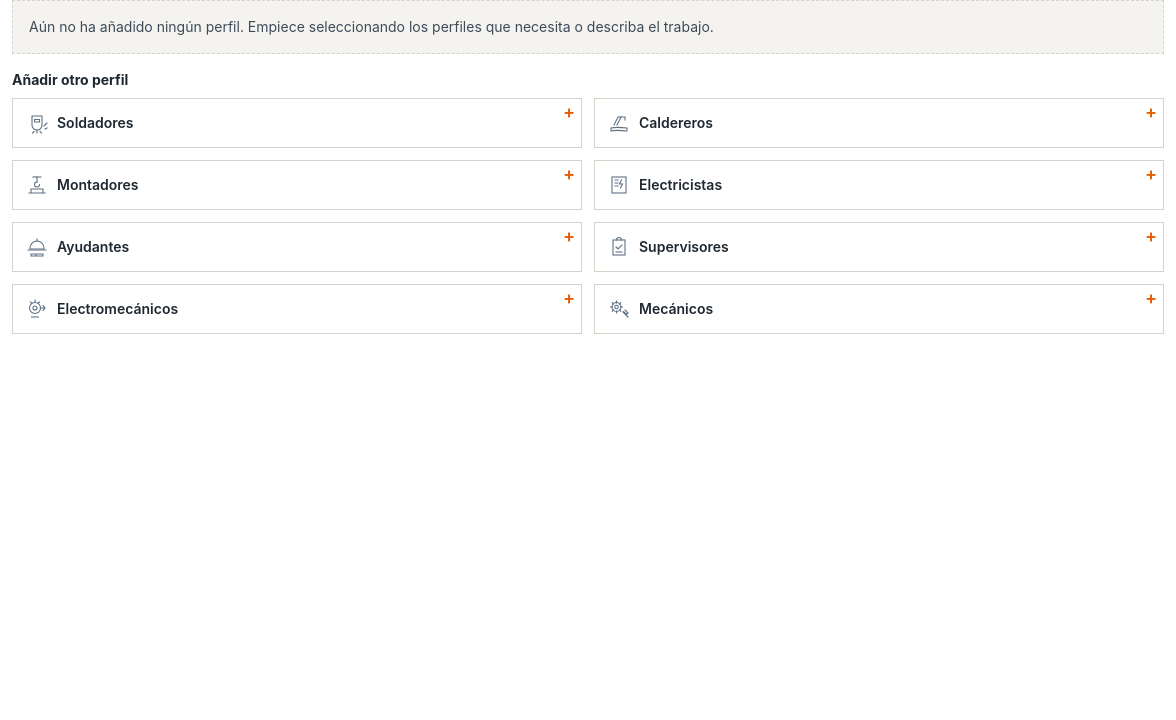
Test case: TeamComposer › adding several profiles sums quantities in the totals
This screenshot has width=1176, height=720.
What coordinates should you click on to do the following:
click the button "Soldadores +"
I would click on:
 (95, 123)
Its box is [12,98,582,148].
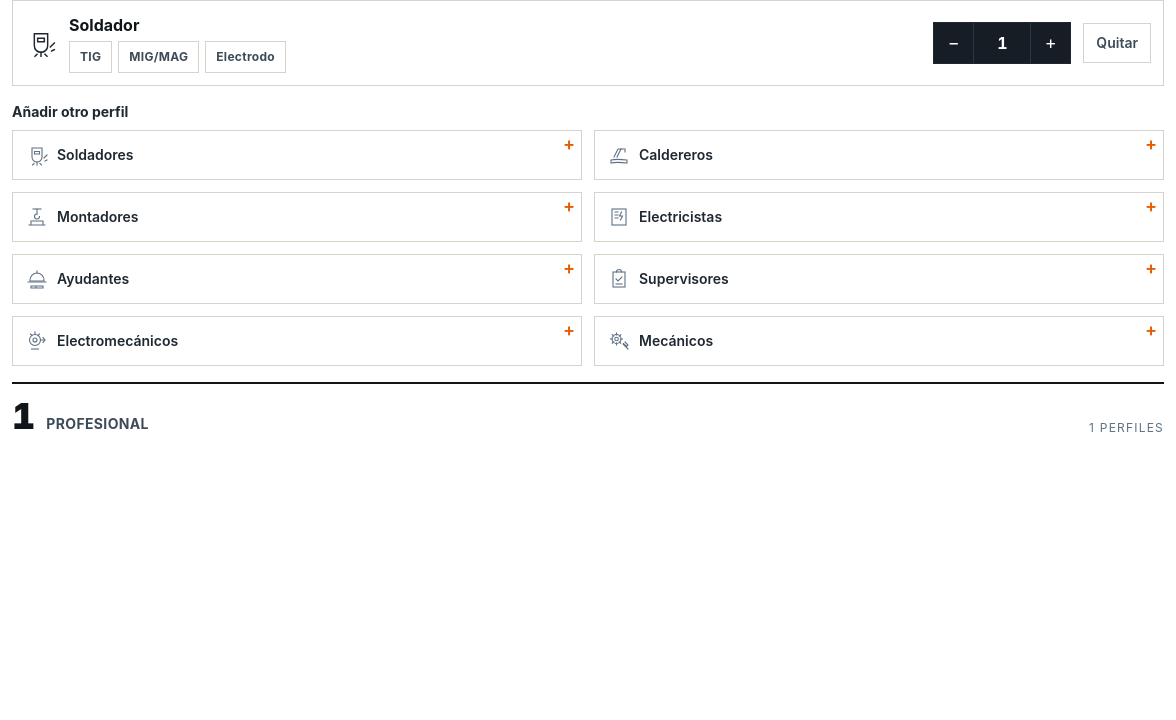
What coordinates should you click on to do the following:
click the button "Montadores +"
I would click on:
 (98, 217)
Its box is [12,192,582,242].
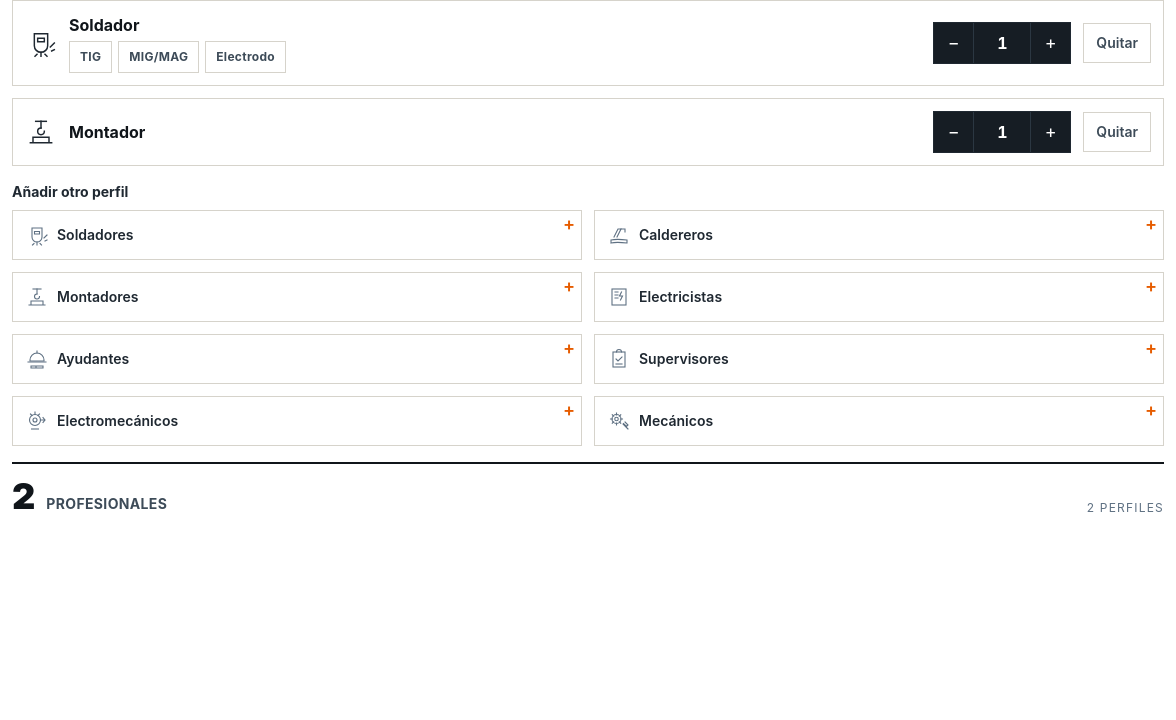
What coordinates should you click on to do the following:
click the button "Montadores +"
I would click on:
 (98, 297)
Its box is [12,272,582,322].
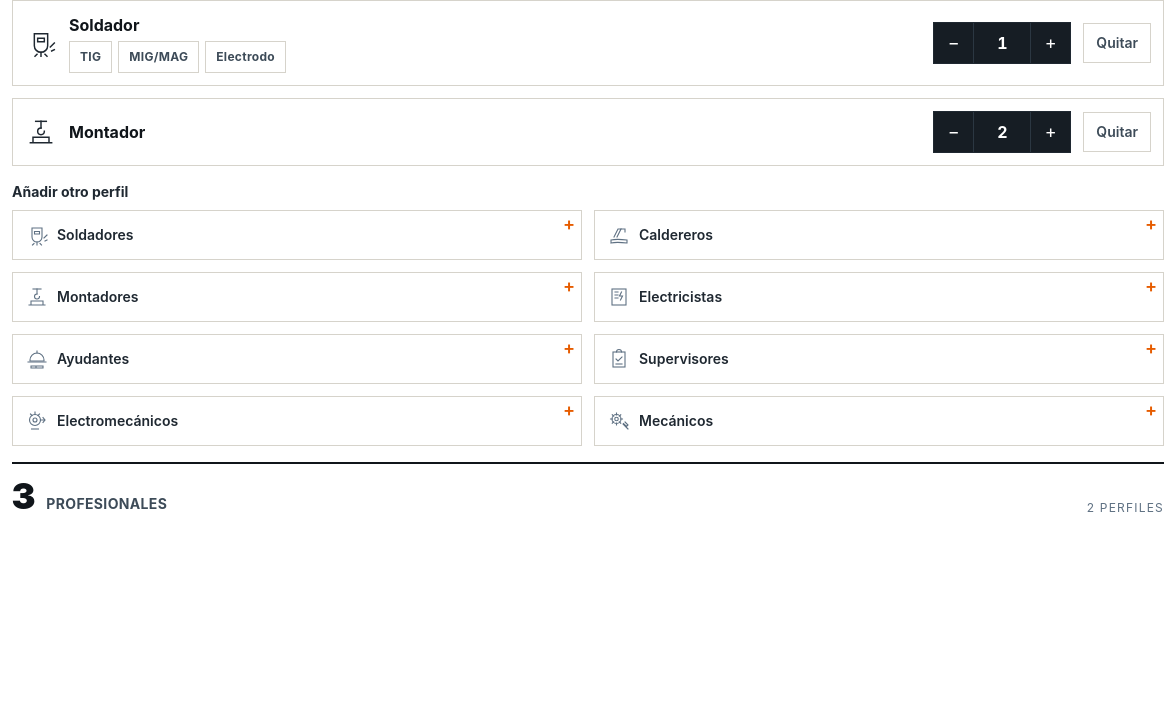
Now the text "profesionales" is shown, box [46,494,167,514]
Now the text "2 perfiles" is shown, box [1087,500,1164,516]
Now the text "3" is shown, box [12,476,34,516]
